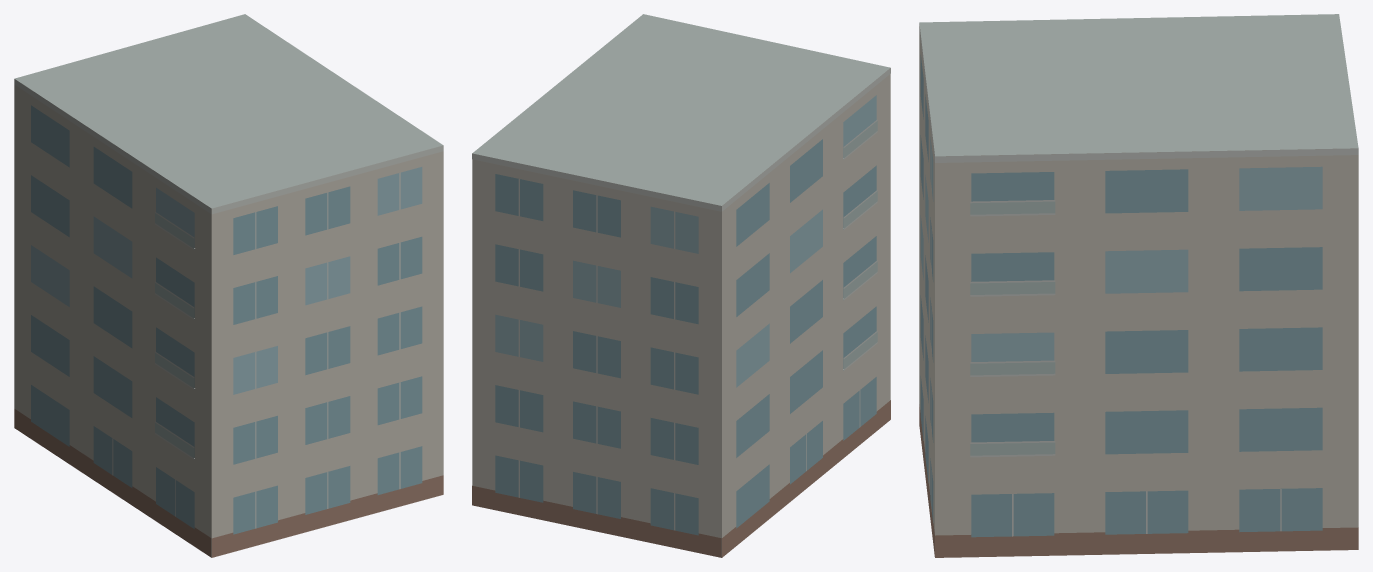
File: survey-upis-32992275.glb
The picture shows the model from 3 angles, left to right: view 1: azimuth 30°, elevation 25°; view 2: azimuth 150°, elevation 25°; view 3: azimuth 270°, elevation 25°; orthographic projection. The views are drawn at different scales.
Parts seen in each view (by area): view 1: survey-upis-32992275.tmp; view 2: survey-upis-32992275.tmp; view 3: survey-upis-32992275.tmp.
Part boxes in pixels (left/top/right/bottom): survey-upis-32992275.tmp: left=14, top=14, right=443, bottom=557; survey-upis-32992275.tmp: left=472, top=14, right=890, bottom=557; survey-upis-32992275.tmp: left=919, top=14, right=1358, bottom=557.
Size of the model in its own units: 11.11 by 14.6 by 14.49.
